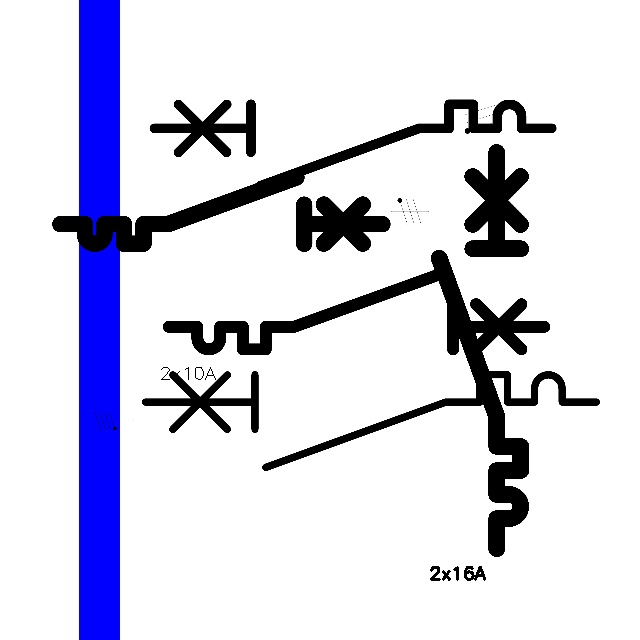interruptor_termomagnetico: (133, 363, 607, 479), (144, 94, 562, 196), (429, 142, 531, 559), (159, 263, 554, 359), (52, 169, 390, 252)
